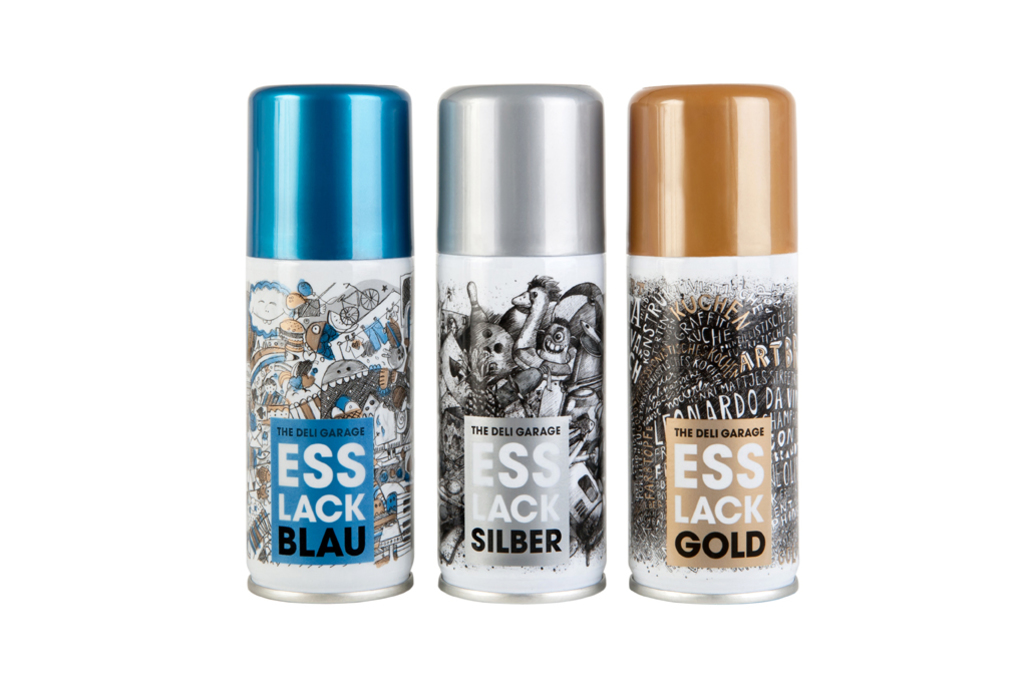can: (626, 83, 798, 605), (437, 83, 606, 604), (246, 84, 415, 604)
